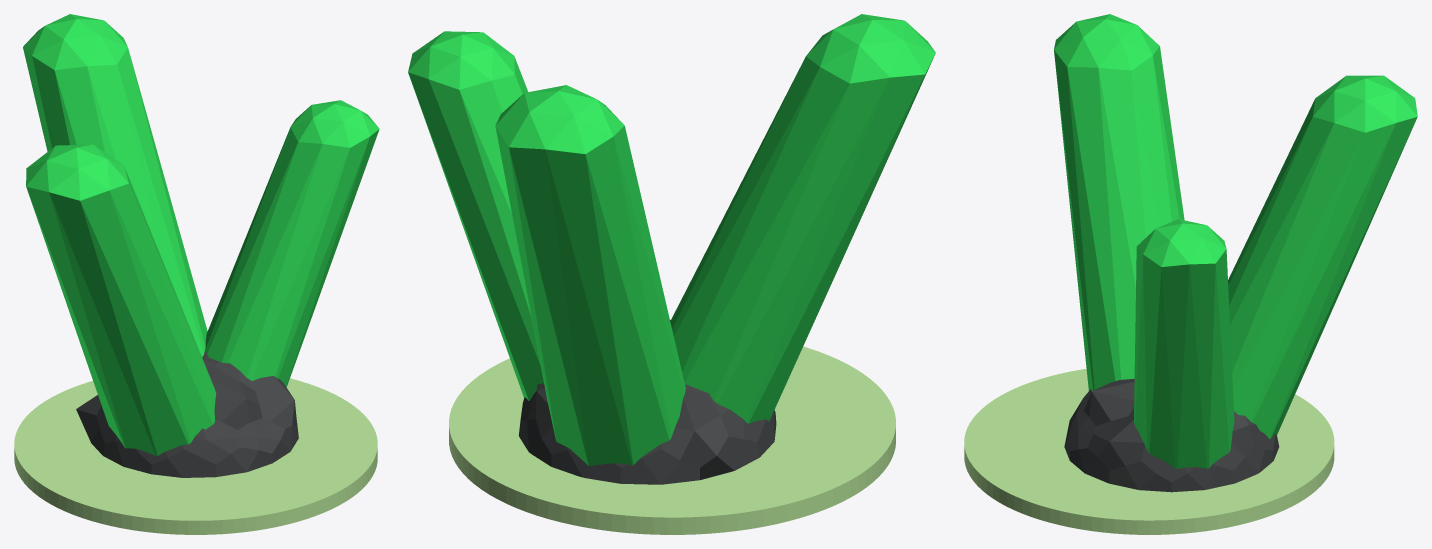
File: Deraumere.fbx
The picture shows the model from 3 angles, left to right: view 1: azimuth 30°, elevation 25°; view 2: azimuth 150°, elevation 25°; view 3: azimuth 270°, elevation 25°; orthographic projection. The views are drawn at different scales.
Parts seen in each view (by area): view 1: Icosphere.002, Cylinder, Icosphere.001, Icosphere, Icosphere.003; view 2: Icosphere.002, Icosphere, Cylinder, Icosphere.001, Icosphere.003; view 3: Icosphere, Icosphere.002, Cylinder, Icosphere.001, Icosphere.003.
Boxes of the visible parts, bbox=[...] form: Icosphere.002: bbox=[26, 144, 216, 456]; Cylinder: bbox=[14, 378, 377, 534]; Icosphere.001: bbox=[205, 100, 379, 386]; Icosphere: bbox=[23, 14, 207, 357]; Icosphere.003: bbox=[76, 339, 298, 477]; Icosphere.002: bbox=[670, 14, 935, 423]; Icosphere: bbox=[495, 85, 685, 466]; Cylinder: bbox=[449, 346, 895, 534]; Icosphere.001: bbox=[408, 31, 543, 400]; Icosphere.003: bbox=[518, 320, 776, 484]; Icosphere: bbox=[1228, 75, 1417, 439]; Icosphere.002: bbox=[1054, 14, 1184, 390]; Cylinder: bbox=[964, 368, 1334, 534]; Icosphere.001: bbox=[1134, 219, 1234, 468]; Icosphere.003: bbox=[1064, 378, 1279, 492].
Bounding box in the file's own units: 83.65 × 76.9 × 85.08.
